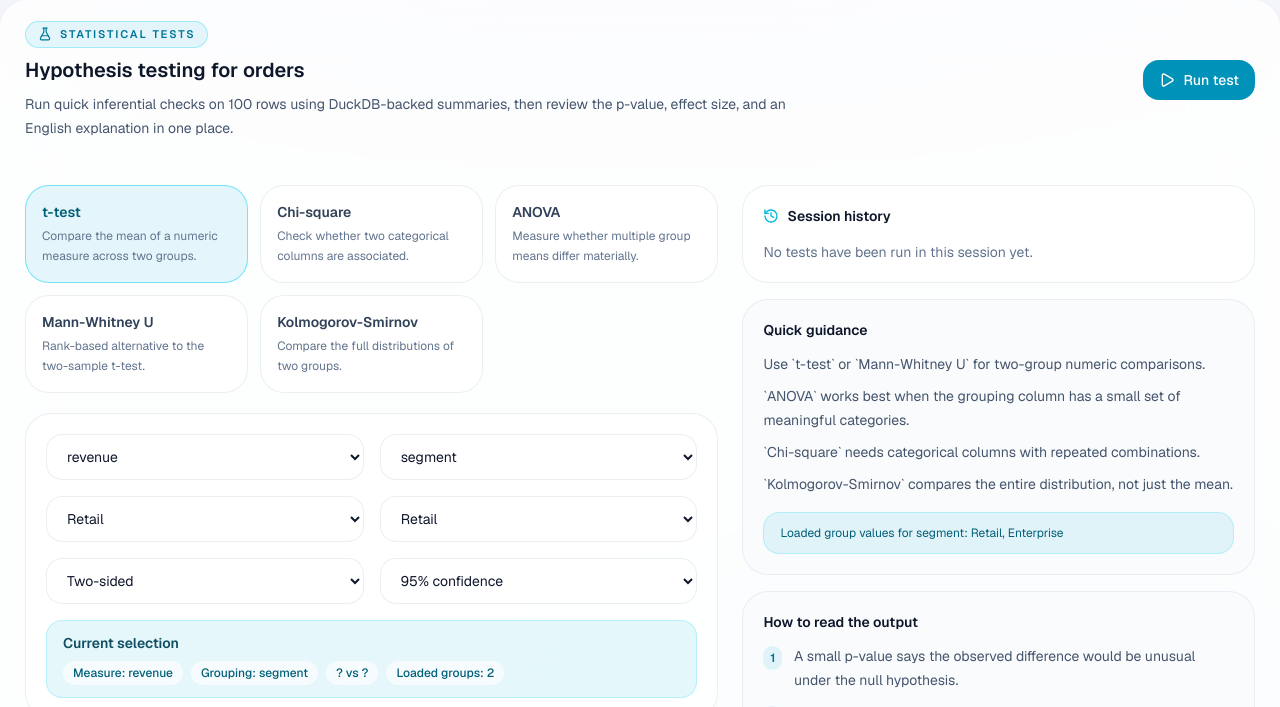
StatisticalTests › switches to the Kolmogorov-Smirnov test and runs the distribution comparison
Expected: the text "Loaded group values for segment: Retail, Enterprise" is shown, left=763, top=512, right=1234, bottom=554
Step 1. Click the button "Kolmogorov-Smirnov" → x=372, y=344, box left=260, top=294, right=483, bottom=392
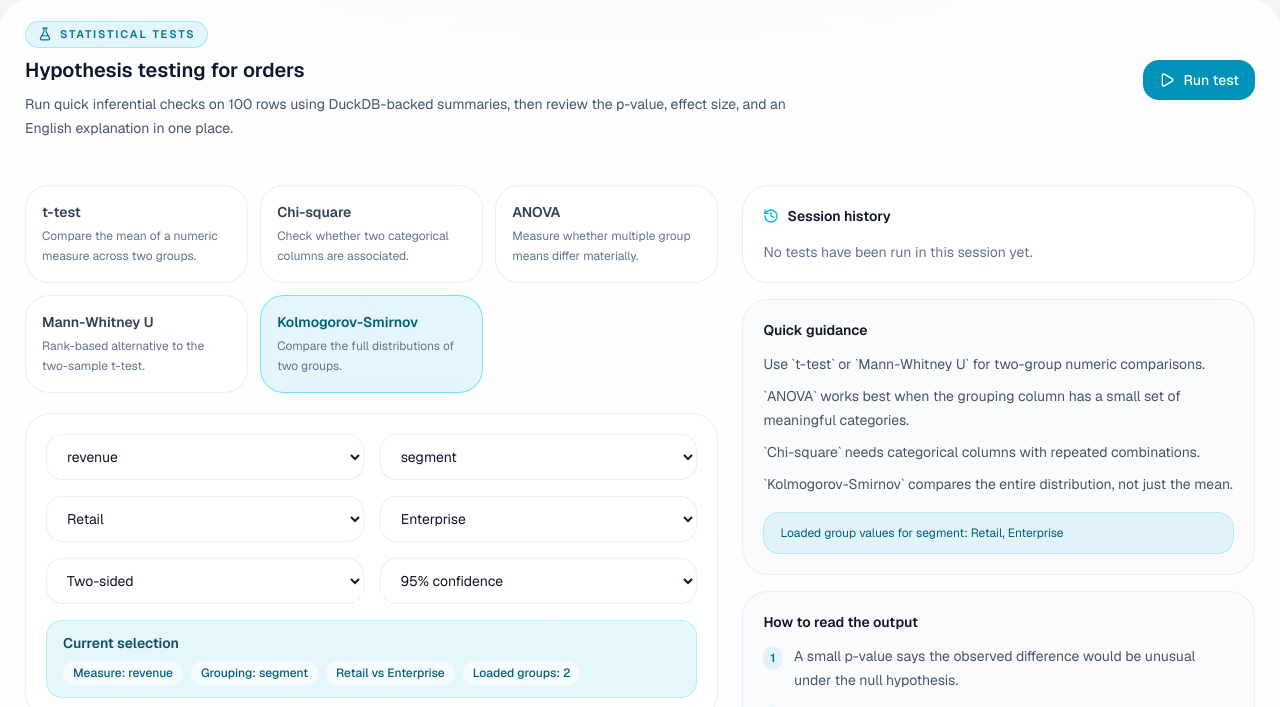
Step 2. Click the button "Run test" → x=1199, y=80, box left=1143, top=60, right=1255, bottom=100
(page scrolled)
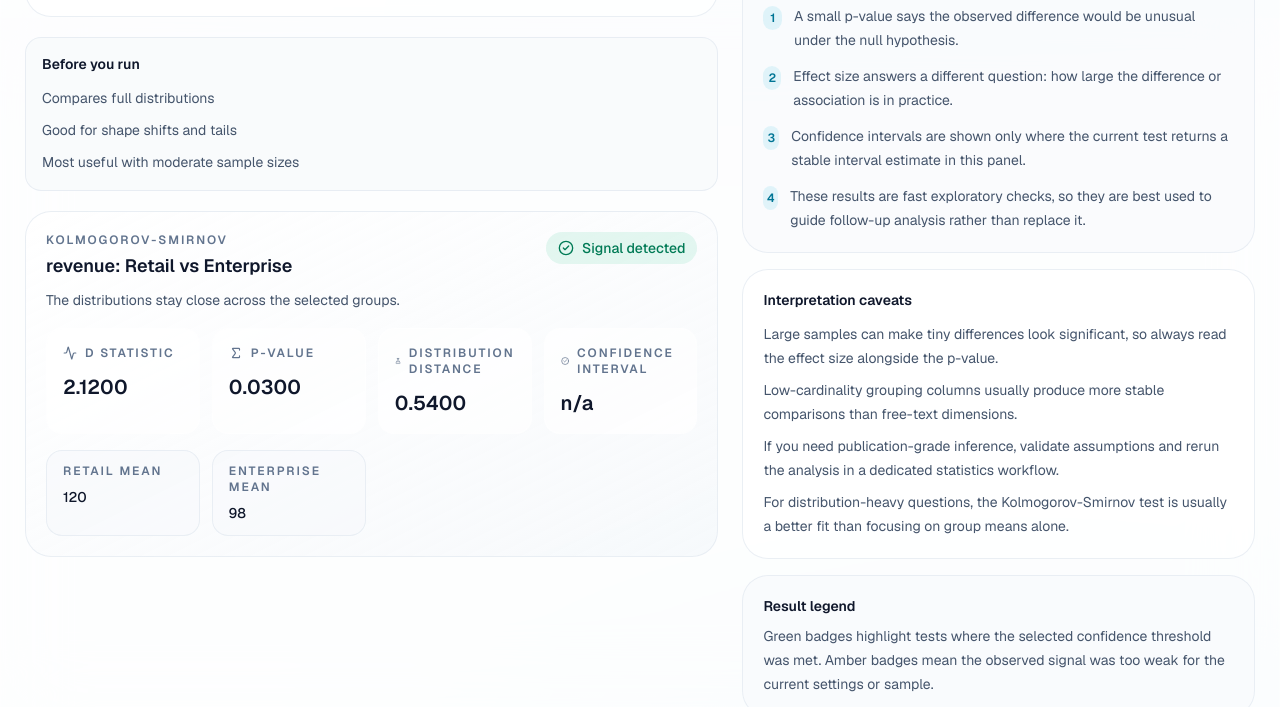
Expected: the text "Distribution distance" is shown, left=395, top=344, right=515, bottom=376
